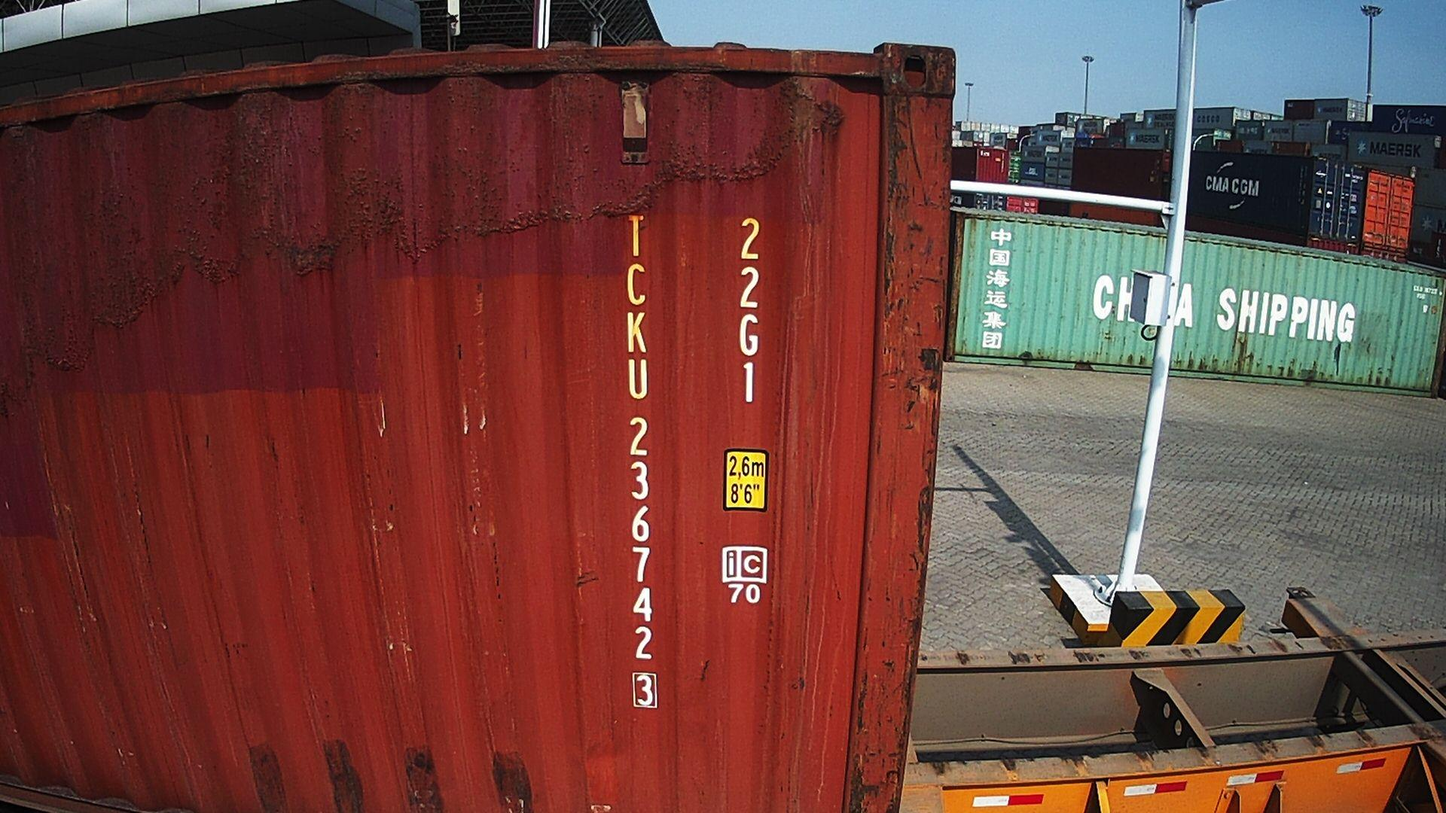container-numbers: (616, 210, 662, 713), (731, 215, 768, 409)
